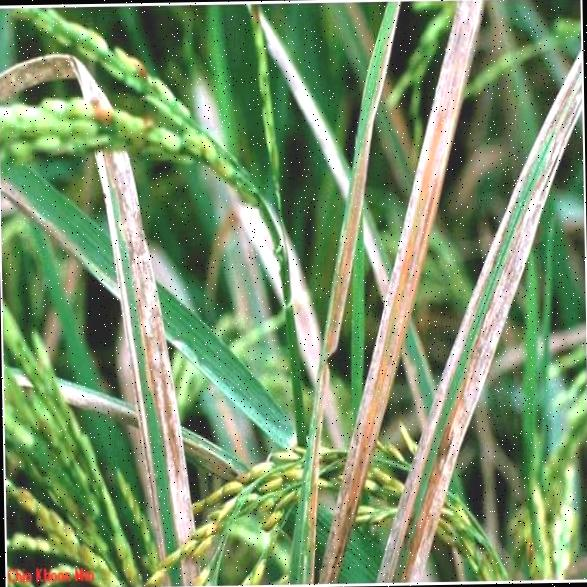Bacteria_Leaf_Blight: (316, 48, 547, 533), (67, 62, 197, 558)
